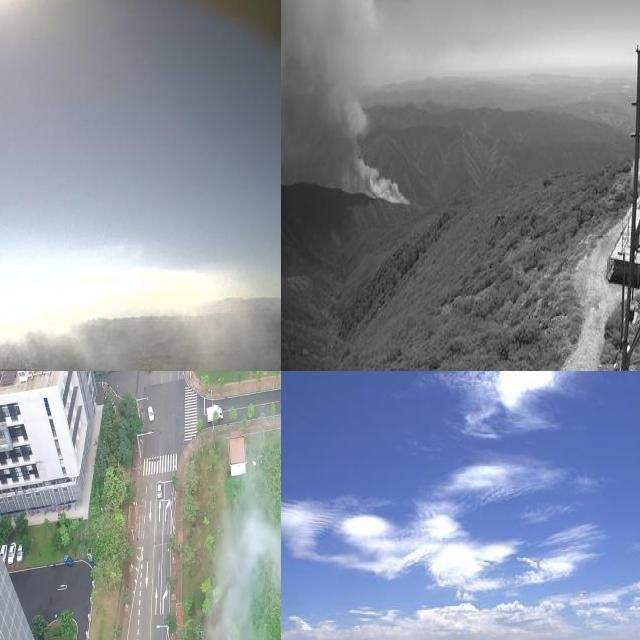smoke: (281, 0, 408, 207), (0, 275, 200, 371), (193, 513, 281, 640)
